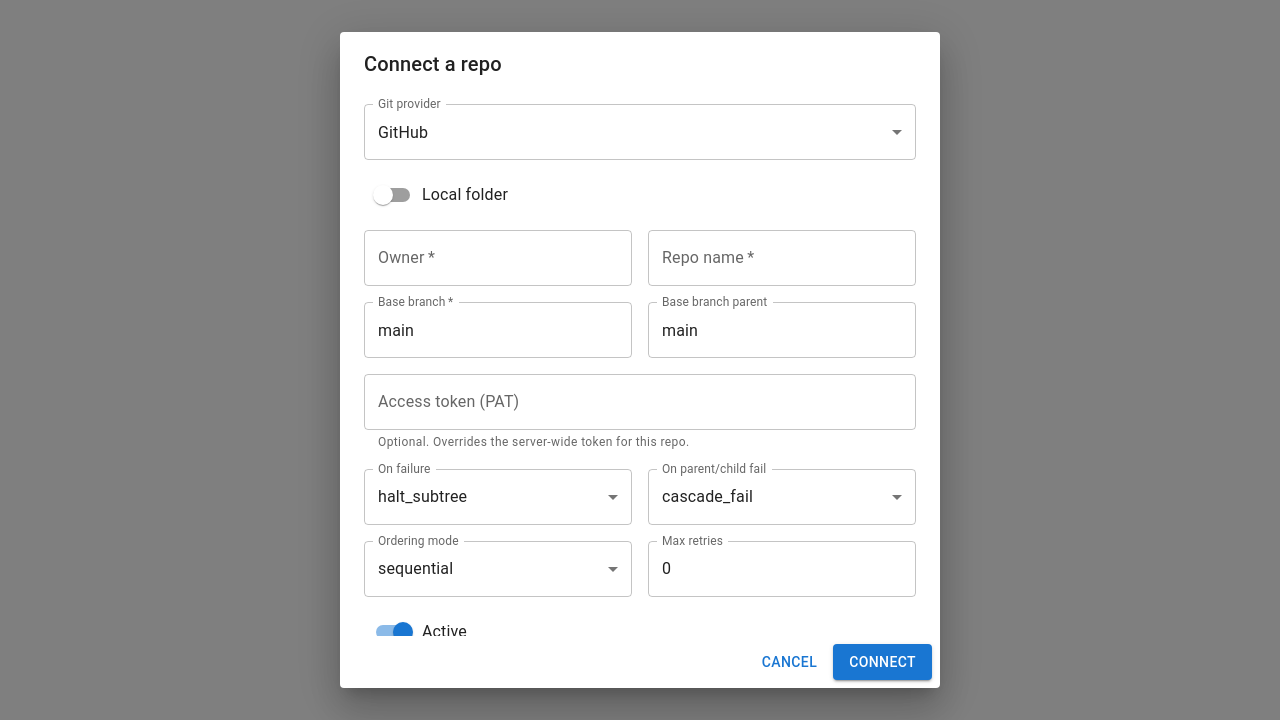
it: RepoFormDialog › requires owner and repo name when not a local folder
Click the button "Connect" at (883, 662), box [833,644,932,680]
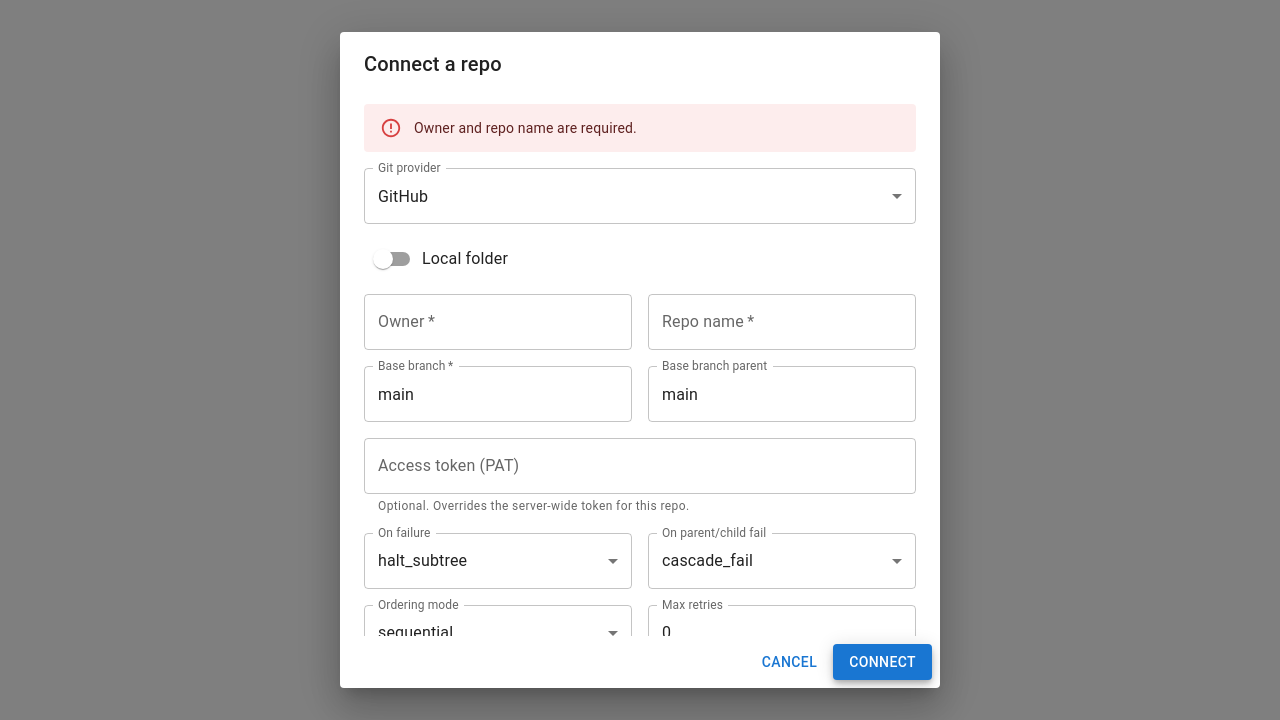
Result: the text "Owner and repo name are required." is shown at [414,120,637,136]
